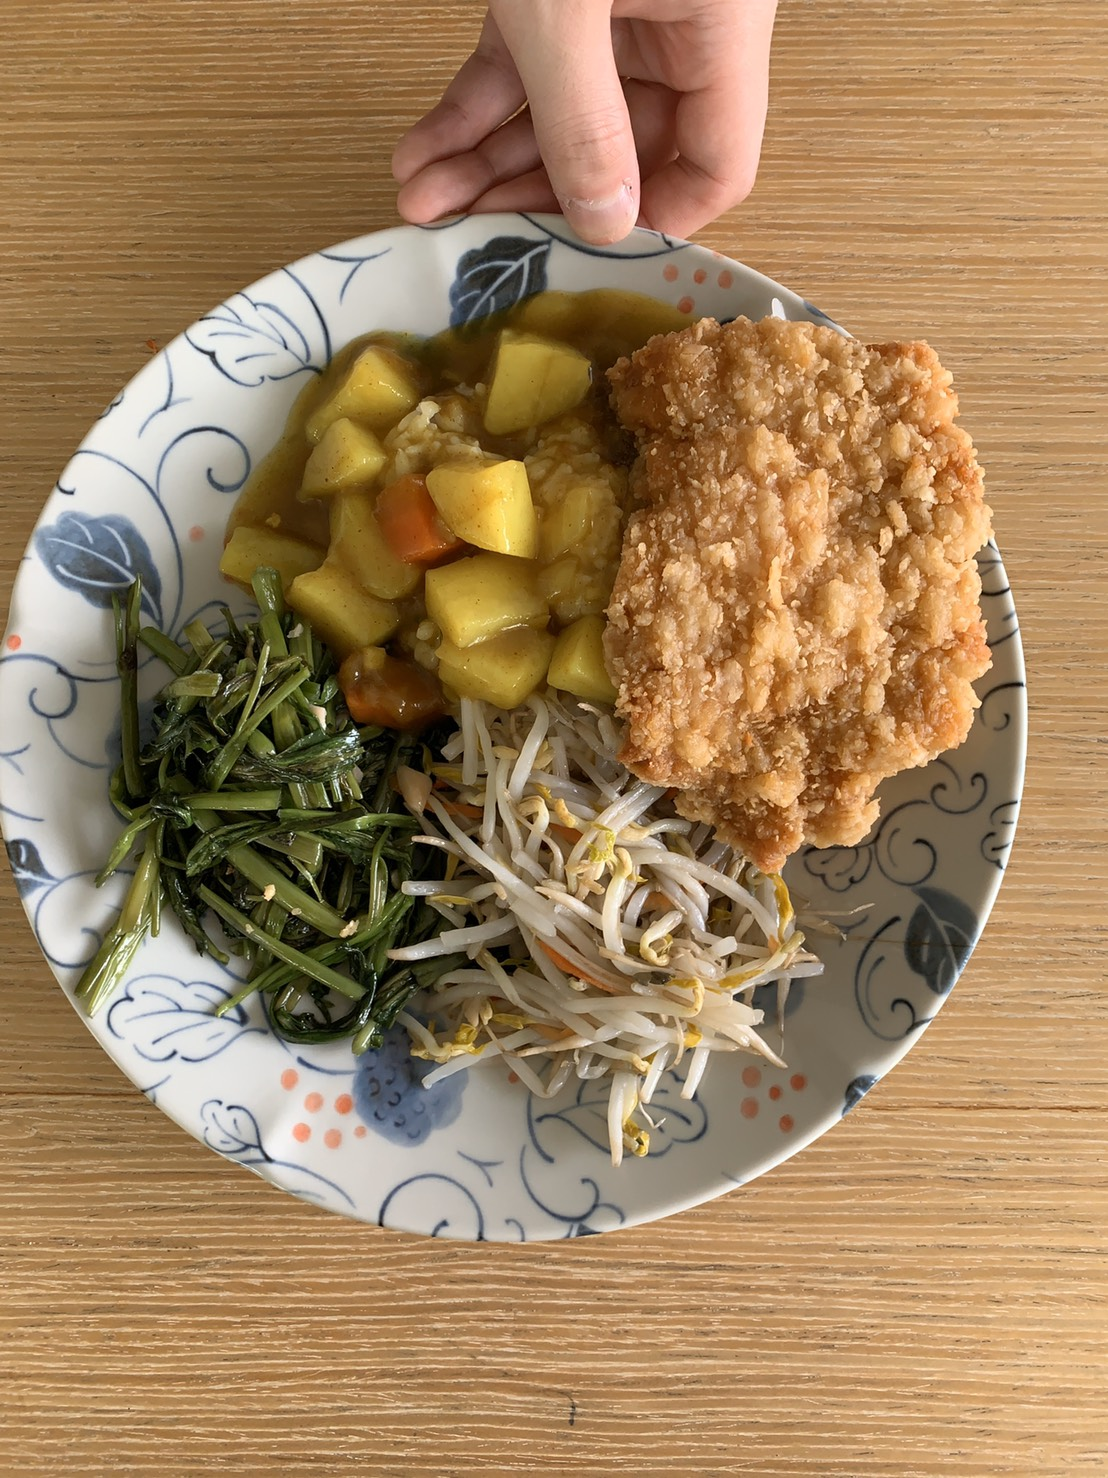curry: (228, 311, 622, 711)
fried_chicken: (631, 331, 976, 786)
mung_bean_sprouts: (446, 760, 768, 1085)
water_spinach: (133, 661, 398, 982)
